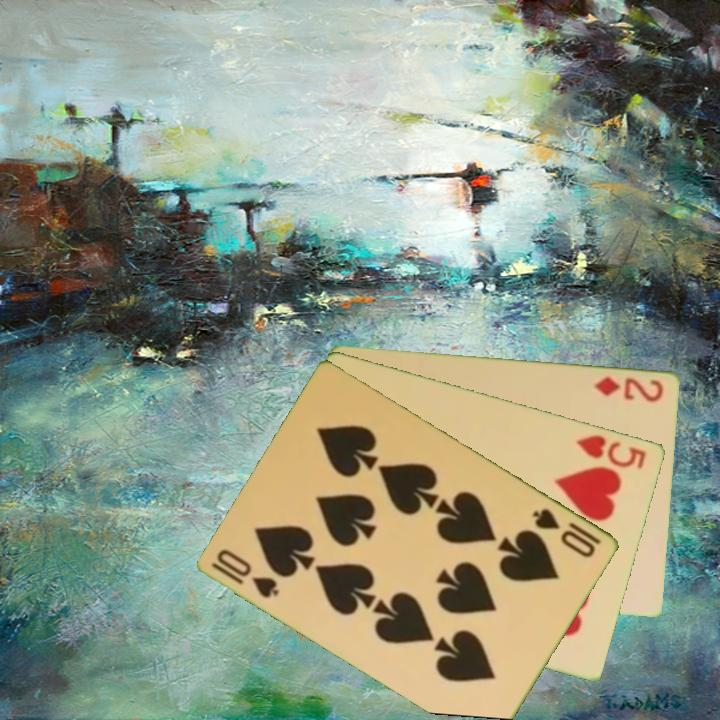10s: (529, 504, 605, 561), (208, 545, 283, 601)
2d: (590, 372, 667, 405)
5h: (573, 431, 650, 472)
